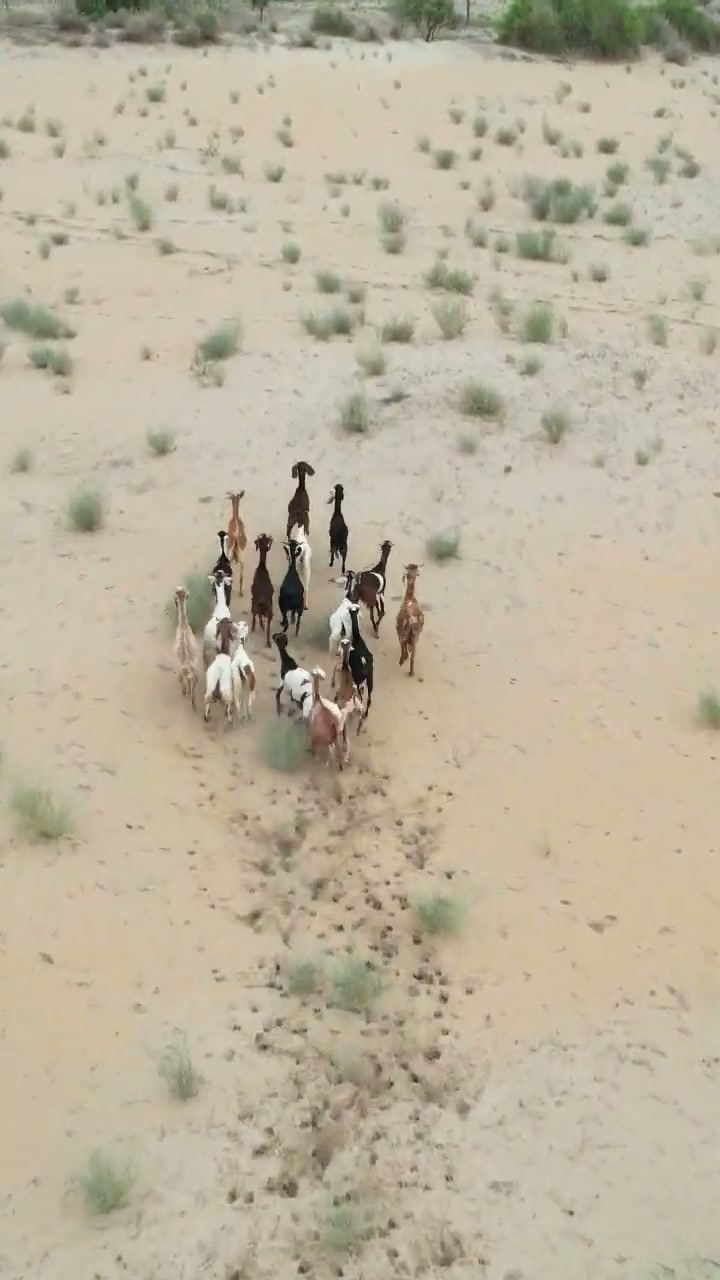animal_foot_print: (82, 704, 567, 1262)
